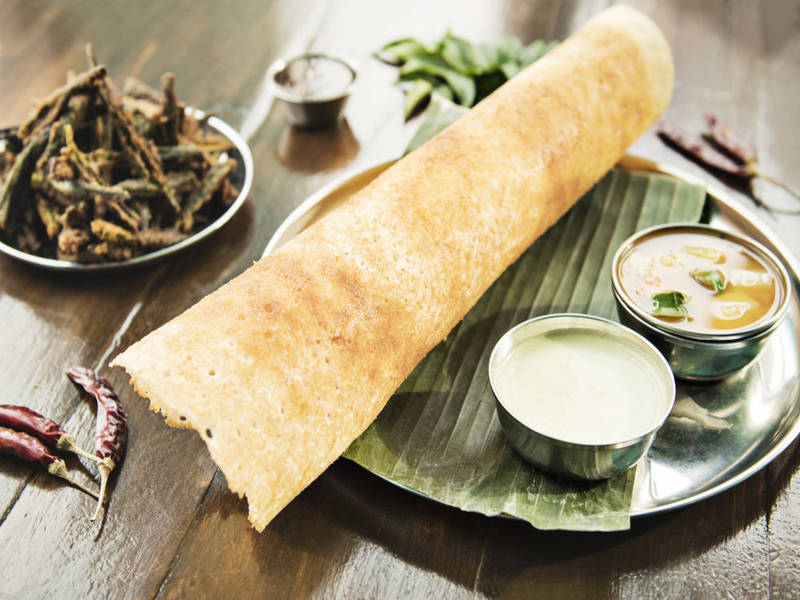dosa: (112, 2, 678, 533)
